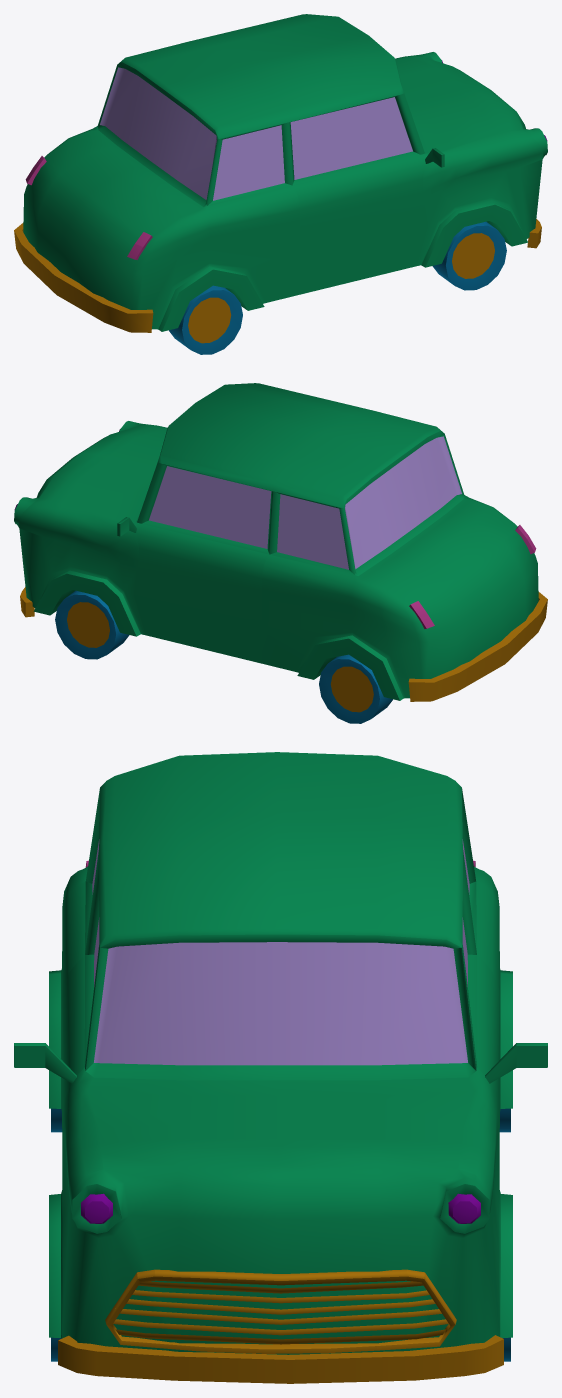
File: NewCar.fbx
3 views of the same model, one above another, from view 1: azimuth 30°, elevation 25°; view 2: azimuth 150°, elevation 25°; view 3: azimuth 270°, elevation 25° (orthographic). The views are drawn at different scales.
Parts seen in each view (by area): view 1: Car; view 2: Car; view 3: Car.
Part boxes in pixels (box(x1,y1,x2,y2)): Car: box(14, 14, 547, 354); Car: box(14, 383, 547, 723); Car: box(14, 752, 547, 1383).
Bounding box in the file's own units: 8587 × 3999 × 4959.
